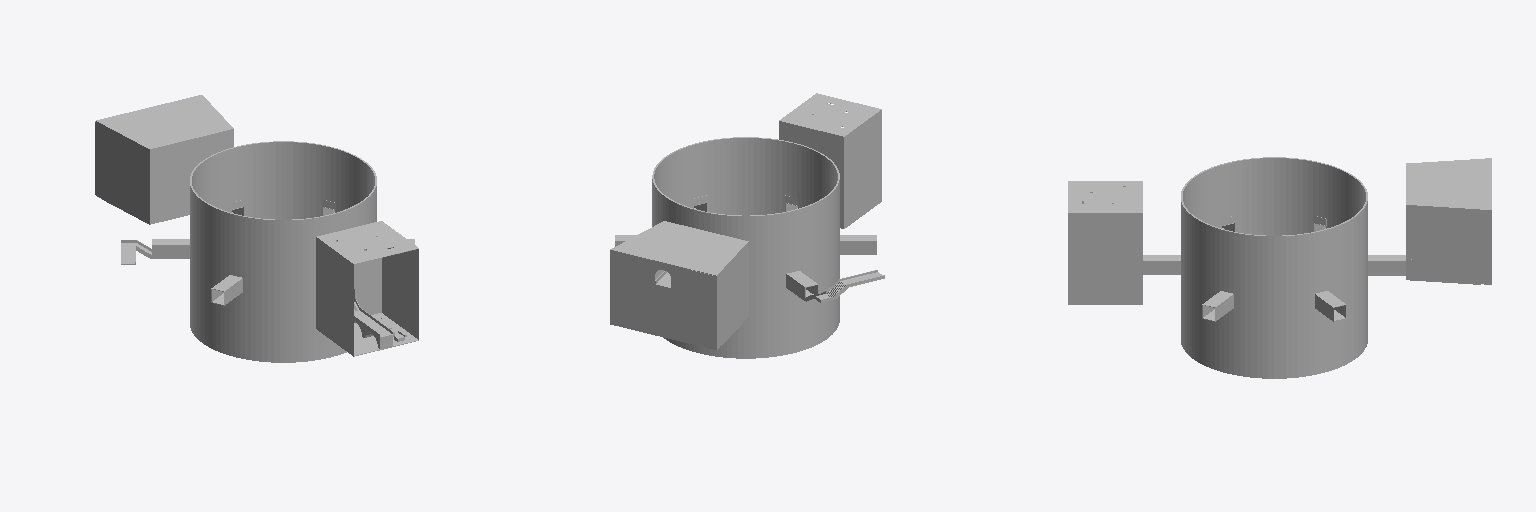
Rendered from 200603_graduation_studio.obj.
The picture shows the model from 3 angles: view 1: azimuth 30°, elevation 25°; view 2: azimuth 150°, elevation 25°; view 3: azimuth 270°, elevation 25°; orthographic projection.
Visible parts, largest first — view 1: Mesh9 walls mainhall Model, Mesh58 Group45 Model, Mesh57 Group44 Model, Mesh59 Group46 Model, Mesh46 Group36 Group34 room1 Model, Mesh17 Group8 room1 Model, Mesh20 Group11 room1 Model, Mesh29 Group19 room1 Model, Mesh56 Group43 Model, Mesh34 Group24 Group20 room1 Model, Mesh33 Group24 Group20 room1 Model, Mesh36 Group24 Group20 room1 Model (+5 smaller); view 2: Mesh9 walls mainhall Model, Mesh26 Group16 room1 Model, Mesh58 Group45 Model, Mesh28 Group18 room1 Model, Mesh59 Group46 Model, Mesh56 Group43 Model, Mesh17 Group8 room1 Model, Mesh29 Group19 room1 Model, Mesh34 Group24 Group20 room1 Model, Mesh36 Group24 Group20 room1 Model, Mesh33 Group24 Group20 room1 Model, Mesh35 Group24 Group20 room1 Model (+2 smaller); view 3: Mesh9 walls mainhall Model, Mesh57 Group44 Model, Mesh59 Group46 Model, Mesh27 Group17 room1 Model, Mesh47 glass1 Group34 room1 Model, Mesh45 Group35 Group34 room1 Model, Mesh34 Group24 Group20 room1 Model, Mesh33 Group24 Group20 room1 Model, Mesh35 Group24 Group20 room1 Model, Mesh36 Group24 Group20 room1 Model, Mesh123 opening1 footwalk2 Model, Mesh82 opening footwalk1 Model (+2 smaller).
Boxes of the visible parts, x1,y1,x2,y2 form: Mesh9 walls mainhall Model: [190, 141, 376, 362]; Mesh58 Group45 Model: [316, 237, 353, 356]; Mesh57 Group44 Model: [382, 248, 418, 339]; Mesh59 Group46 Model: [317, 221, 418, 263]; Mesh46 Group36 Group34 room1 Model: [149, 130, 233, 182]; Mesh17 Group8 room1 Model: [95, 155, 142, 219]; Mesh20 Group11 room1 Model: [143, 173, 190, 223]; Mesh29 Group19 room1 Model: [96, 122, 148, 182]; Mesh56 Group43 Model: [336, 241, 381, 314]; Mesh34 Group24 Group20 room1 Model: [96, 114, 169, 149]; Mesh33 Group24 Group20 room1 Model: [124, 108, 190, 144]; Mesh36 Group24 Group20 room1 Model: [150, 101, 211, 138]; Mesh9 walls mainhall Model: [652, 137, 839, 358]; Mesh26 Group16 room1 Model: [610, 284, 706, 347]; Mesh58 Group45 Model: [844, 110, 881, 228]; Mesh28 Group18 room1 Model: [610, 251, 716, 309]; Mesh59 Group46 Model: [779, 93, 881, 136]; Mesh56 Group43 Model: [779, 121, 843, 228]; Mesh17 Group8 room1 Model: [707, 280, 744, 349]; Mesh29 Group19 room1 Model: [717, 242, 748, 308]; Mesh34 Group24 Group20 room1 Model: [691, 236, 748, 275]; Mesh36 Group24 Group20 room1 Model: [637, 226, 704, 262]; Mesh33 Group24 Group20 room1 Model: [664, 231, 725, 268]; Mesh35 Group24 Group20 room1 Model: [612, 221, 683, 256]; Mesh9 walls mainhall Model: [1181, 157, 1367, 378]; Mesh57 Group44 Model: [1068, 213, 1142, 304]; Mesh59 Group46 Model: [1068, 181, 1142, 212]; Mesh27 Group17 room1 Model: [1406, 241, 1480, 283]; Mesh47 glass1 Group34 room1 Model: [1406, 207, 1446, 261]; Mesh45 Group35 Group34 room1 Model: [1447, 209, 1491, 243]; Mesh34 Group24 Group20 room1 Model: [1406, 158, 1491, 172]; Mesh33 Group24 Group20 room1 Model: [1406, 172, 1491, 183]; Mesh35 Group24 Group20 room1 Model: [1406, 195, 1491, 208]; Mesh36 Group24 Group20 room1 Model: [1406, 185, 1491, 196]; Mesh123 opening1 footwalk2 Model: [1143, 255, 1180, 274]; Mesh82 opening footwalk1 Model: [1202, 291, 1233, 320].
Size of the model in its own units: 77811 by 41900 by 113000.